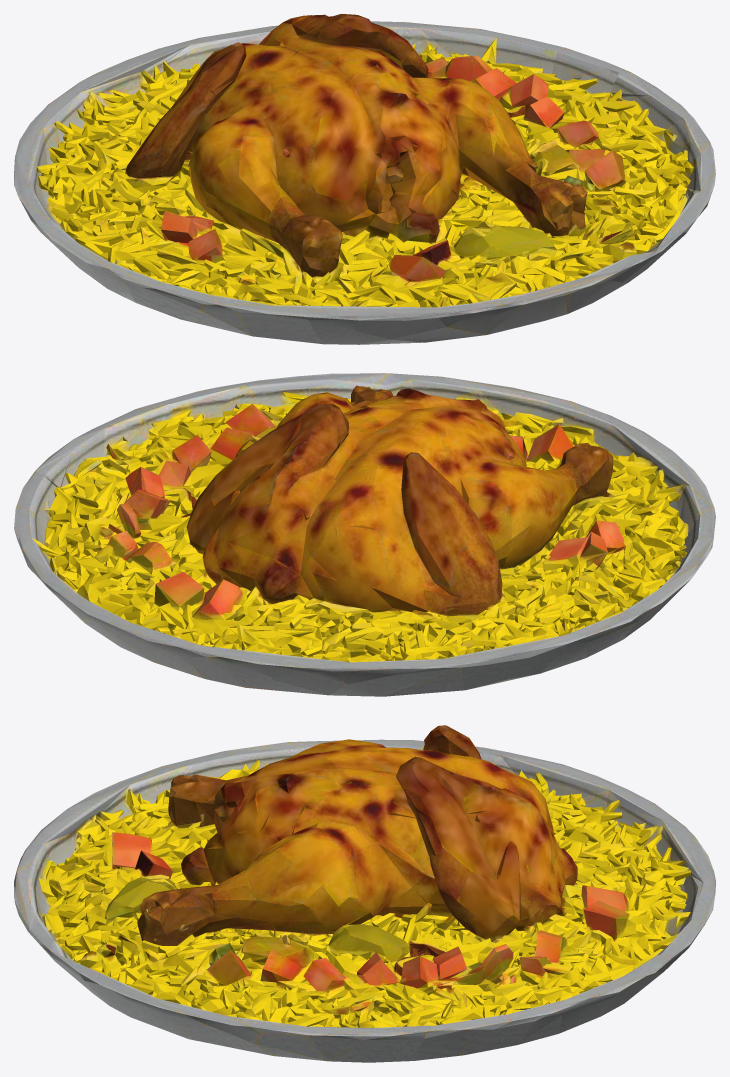
Rendered from chicken-rice.glb.
3 views of the same model, one above another, from view 1: azimuth 30°, elevation 25°; view 2: azimuth 150°, elevation 25°; view 3: azimuth 270°, elevation 25° (orthographic).
Visible parts, largest first — view 1: Mesh_0; view 2: Mesh_0; view 3: Mesh_0.
Boxes of the visible parts, x1=… form: Mesh_0: x1=14, y1=14, x2=715, y2=344; Mesh_0: x1=14, y1=373, x2=715, y2=696; Mesh_0: x1=14, y1=725, x2=715, y2=1062.
Size of the model in its own units: 1.9 by 0.5471 by 1.9.
1 material, 1 textured.
